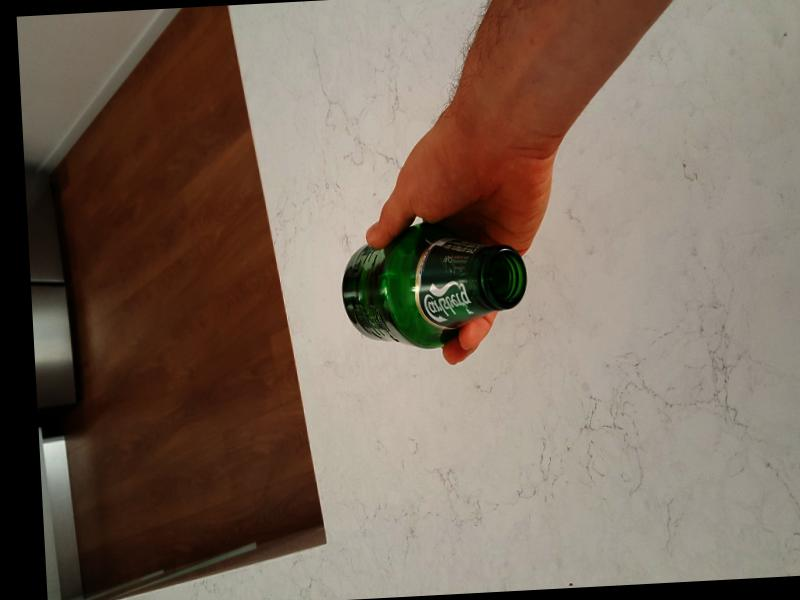Beer: (337, 219, 530, 351)
